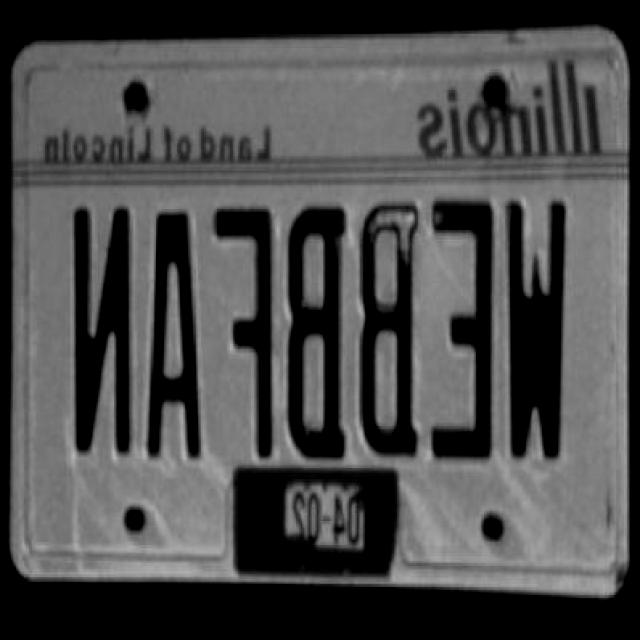licenseplate: (63, 192, 569, 472)
